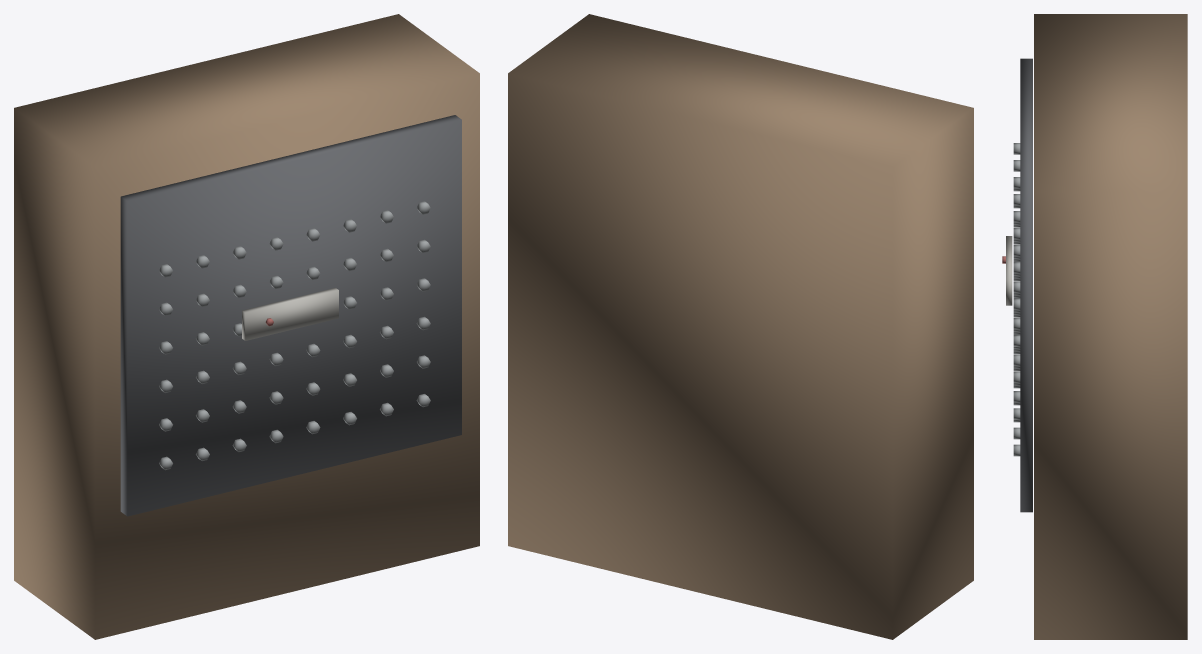
Rendered from telephone_switchboard.glb.
3 renders of one model, left to right at view 1: azimuth 30°, elevation 25°; view 2: azimuth 150°, elevation 25°; view 3: azimuth 270°, elevation 25°, orthographic. The views are drawn at different scales.
Visible parts, largest first — view 1: world; view 2: world; view 3: world.
Boxes of the visible parts, x1,y1,x2,y2 form: world: (14,14,479,639); world: (508,14,973,639); world: (1002,14,1187,639).
Bounding box in the file's own units: 1.15 × 1.35 × 0.507.
